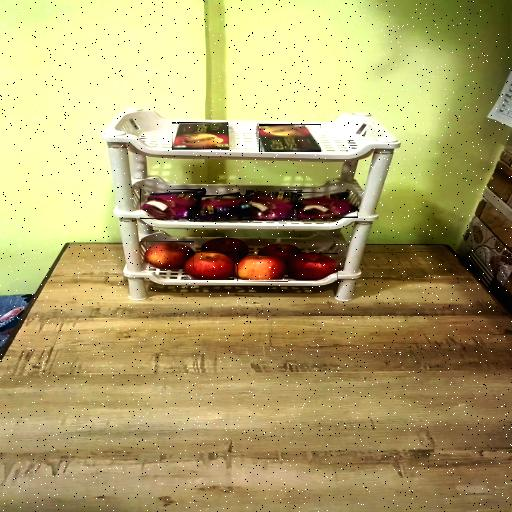Apple: (288, 253, 340, 281), (184, 252, 234, 280), (237, 256, 288, 282), (146, 241, 194, 268)
Choco Fills: (259, 124, 321, 152), (172, 122, 228, 150)
Choco Pie: (140, 189, 206, 219), (246, 190, 302, 220), (297, 192, 358, 218), (194, 195, 252, 220)
